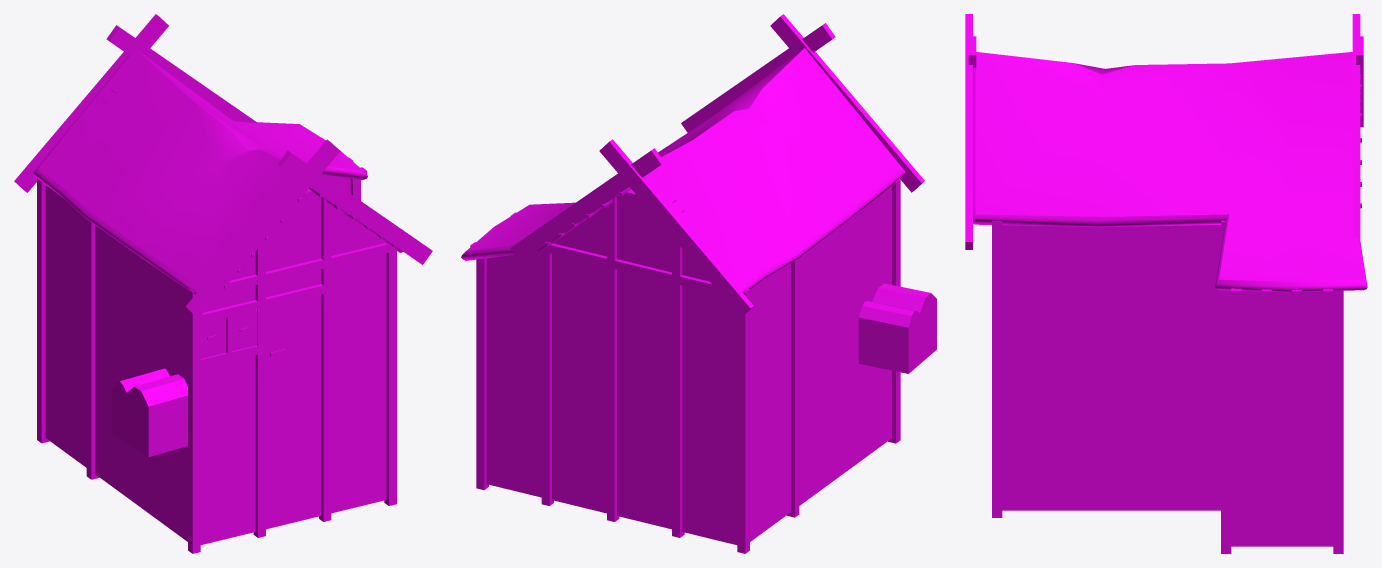
The model's file is house_a_2.glb.
The picture shows the model from 3 angles, left to right: view 1: azimuth 30°, elevation 25°; view 2: azimuth 150°, elevation 25°; view 3: azimuth 270°, elevation 25°; orthographic projection. The views are drawn at different scales.
Parts seen in each view (by area): view 1: Cube_007-mesh; view 2: Cube_007-mesh; view 3: Cube_007-mesh.
Part boxes in pixels (x1,y1,x2,y2): Cube_007-mesh: (14, 14, 432, 553); Cube_007-mesh: (461, 14, 936, 553); Cube_007-mesh: (965, 14, 1367, 553).
Size of the model in its own units: 13.12 by 15.03 by 12.47.
